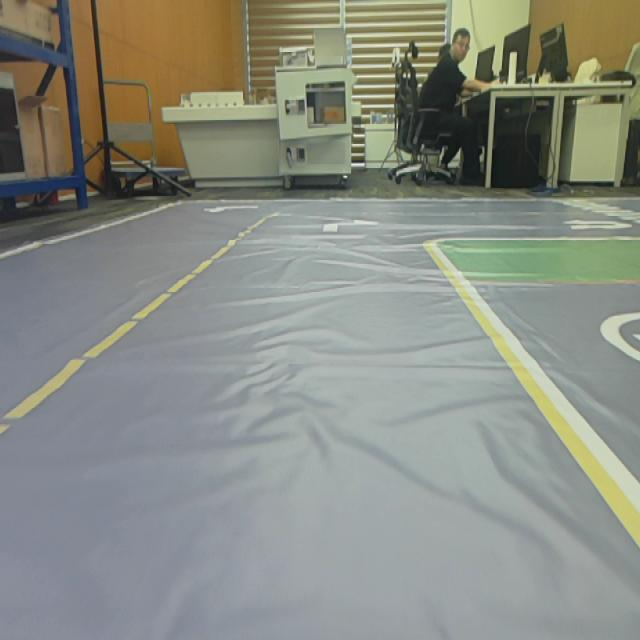left_lane: (0, 217, 265, 435)
right_lane: (424, 244, 640, 548)
